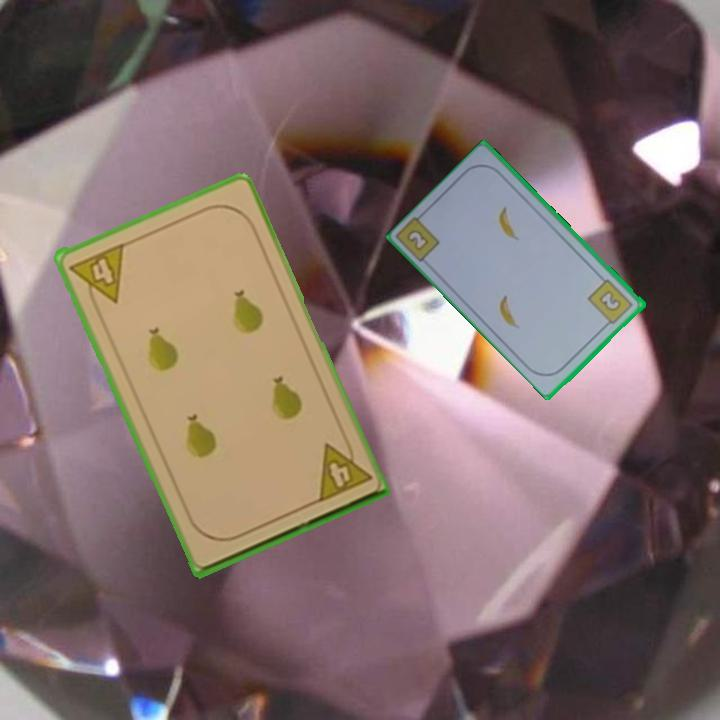2b: (584, 276, 636, 330), (403, 226, 432, 254)
4p: (66, 239, 128, 313), (313, 433, 375, 506)
